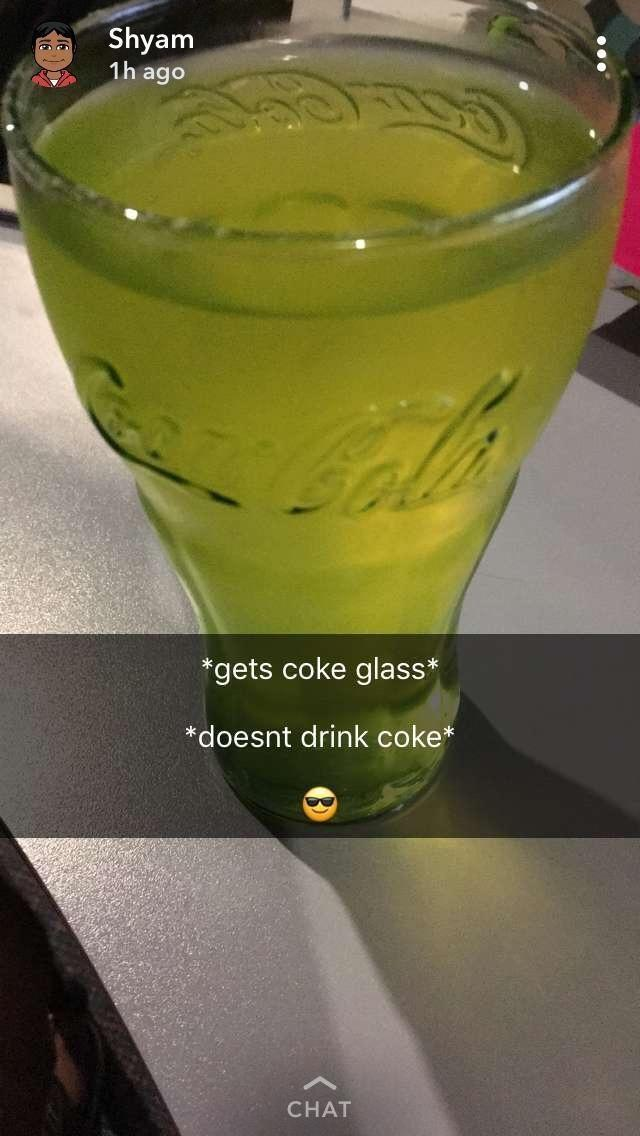glass-normal: (1, 1, 621, 830)
